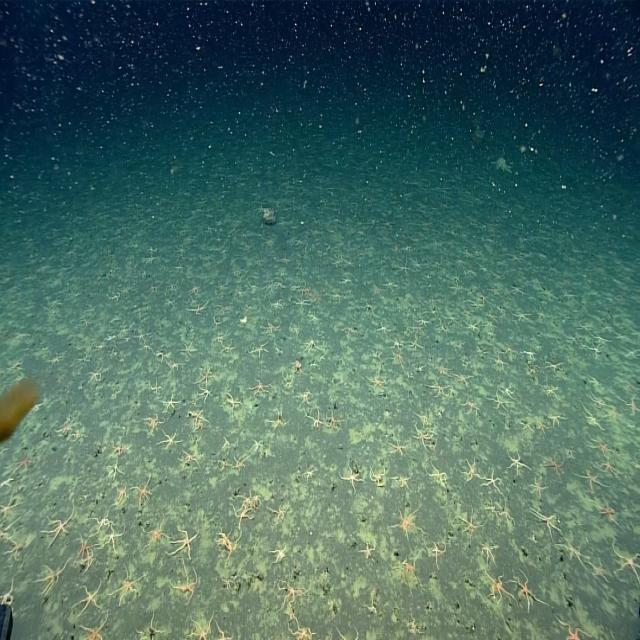brittle-stars: (40, 502, 76, 548), (484, 568, 521, 612), (108, 565, 146, 604), (169, 558, 200, 604), (33, 557, 71, 594), (272, 577, 310, 613), (529, 508, 564, 543), (72, 608, 108, 640), (395, 548, 423, 589), (165, 526, 200, 558), (140, 512, 168, 552), (388, 506, 426, 535), (455, 504, 483, 543), (537, 448, 565, 486), (338, 458, 366, 494), (95, 525, 126, 557), (286, 609, 318, 640), (571, 468, 610, 493), (134, 609, 165, 640), (214, 527, 243, 560), (74, 581, 102, 615), (504, 444, 532, 477), (516, 572, 540, 608), (129, 471, 151, 508), (423, 458, 448, 490), (190, 608, 215, 640), (53, 418, 83, 444), (412, 421, 434, 454), (264, 405, 291, 430), (480, 468, 504, 496), (89, 508, 117, 532), (178, 443, 202, 469), (486, 389, 511, 413), (478, 542, 500, 569), (246, 378, 270, 402), (431, 538, 448, 571), (233, 487, 261, 507), (588, 435, 612, 458), (302, 403, 324, 428), (141, 412, 161, 438), (156, 429, 182, 449), (600, 457, 622, 480), (221, 390, 243, 413), (231, 507, 255, 528), (461, 457, 479, 485), (325, 408, 346, 432), (185, 408, 210, 428), (526, 474, 548, 496), (459, 394, 481, 416), (246, 339, 270, 359), (369, 464, 387, 490), (423, 378, 449, 396), (193, 383, 214, 405), (160, 391, 181, 413), (390, 472, 412, 492), (299, 334, 321, 354), (361, 538, 375, 568), (266, 505, 290, 522), (196, 368, 216, 388), (105, 460, 123, 481), (388, 438, 407, 457), (261, 318, 282, 335), (149, 376, 166, 396), (414, 411, 434, 428), (279, 370, 295, 391), (177, 341, 198, 357), (546, 413, 568, 428), (294, 389, 312, 407), (268, 546, 291, 560), (302, 462, 318, 482), (185, 303, 207, 317), (221, 432, 235, 454), (112, 436, 128, 455), (366, 374, 385, 390), (232, 453, 250, 469), (211, 330, 229, 346), (164, 361, 185, 374), (249, 439, 264, 456), (218, 455, 232, 473), (116, 484, 128, 504), (388, 335, 404, 350), (391, 351, 406, 367), (88, 369, 104, 384), (156, 351, 171, 365), (221, 344, 236, 354), (376, 323, 390, 332), (250, 532, 256, 551)
